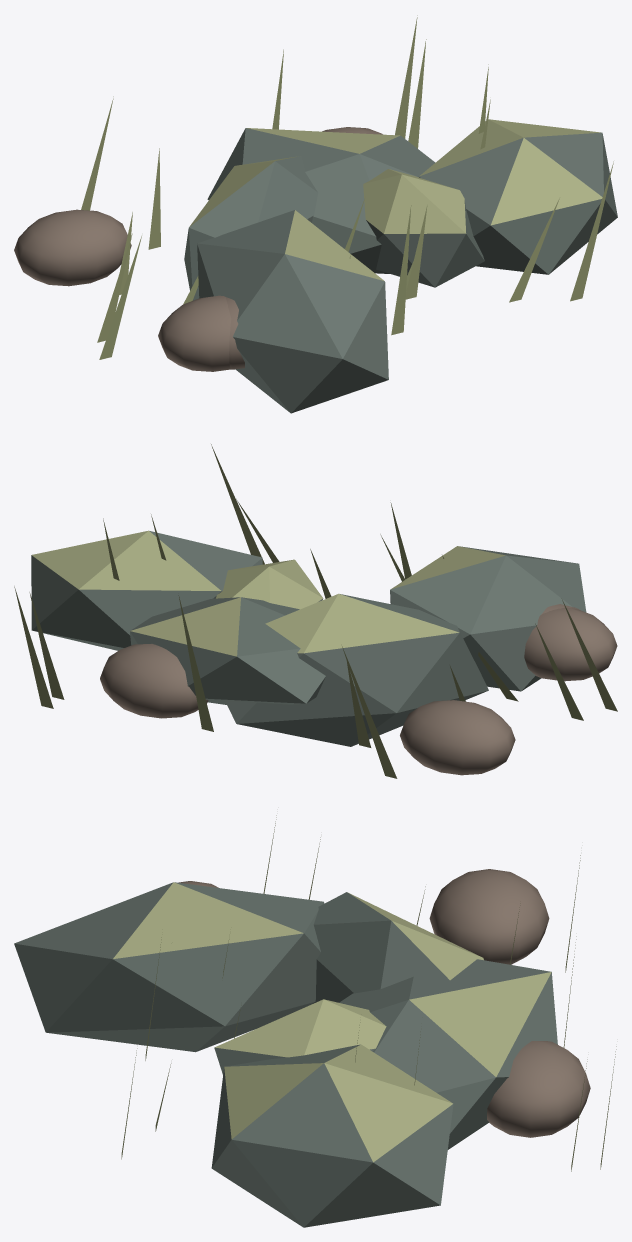
The model's file is shore_patch.glb.
The picture shows the model from 3 angles, top to bottom: view 1: azimuth 30°, elevation 25°; view 2: azimuth 150°, elevation 25°; view 3: azimuth 270°, elevation 25°; orthographic projection. The views are drawn at different scales.
Visible parts, largest first — view 1: shore_patch_stone, shore_patch_heather, shore_patch_grass; view 2: shore_patch_stone, shore_patch_heather, shore_patch_grass; view 3: shore_patch_stone, shore_patch_heather, shore_patch_grass.
Part boxes in pixels (x1,y1,x2,y2): shore_patch_stone: (184,119,617,413); shore_patch_heather: (14,127,382,371); shore_patch_grass: (81,15,613,359); shore_patch_stone: (31,530,586,746); shore_patch_heather: (100,604,617,775); shore_patch_grass: (14,444,617,778); shore_patch_stone: (14,882,557,1227); shore_patch_heather: (179,869,590,1137); shore_patch_grass: (121,815,616,1171).
Size of the model in its own units: 3.07 by 0.9592 by 2.42.
